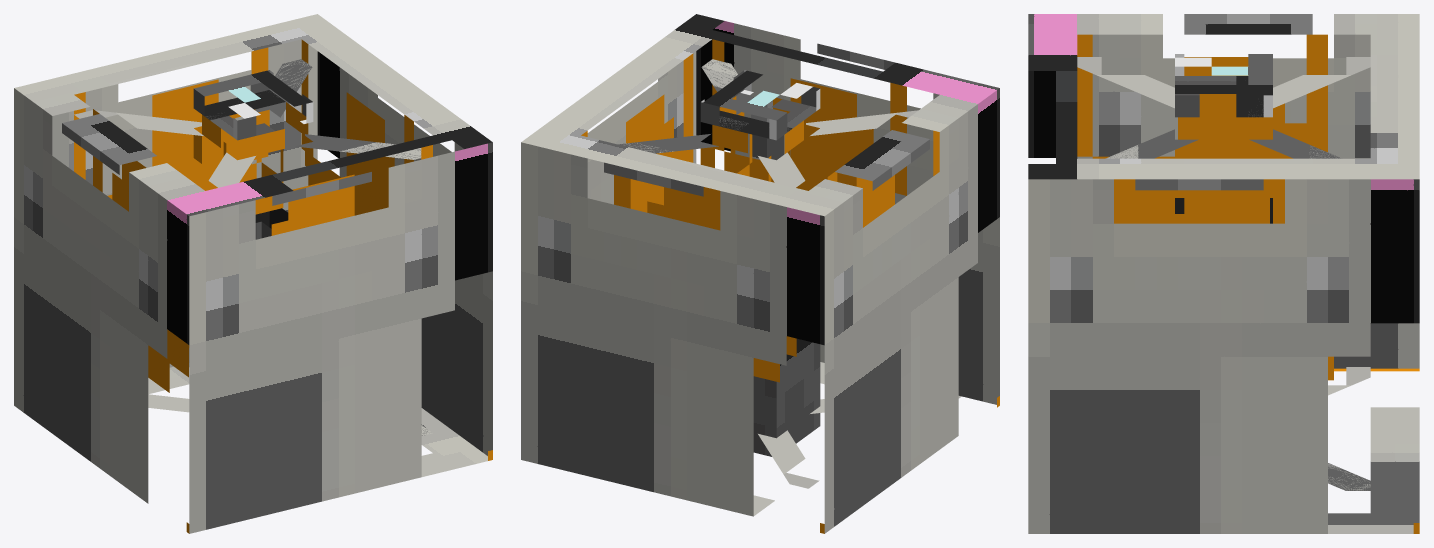
The model's file is piston_inserter_item.obj.
3 renders of one model, left to right at view 1: azimuth 30°, elevation 25°; view 2: azimuth 150°, elevation 25°; view 3: azimuth 270°, elevation 25°, orthographic. The views are drawn at different scales.
Visible parts, largest first — view 1: Frame, Piston; view 2: Frame, Piston; view 3: Frame, Piston.
Part boxes in pixels (left/top/right/bottom): Frame: left=14, top=14, right=492, bottom=533; Piston: left=193, top=70, right=313, bottom=239; Frame: left=521, top=14, right=999, bottom=533; Piston: left=700, top=70, right=820, bottom=182; Frame: left=1028, top=14, right=1419, bottom=533; Piston: left=1175, top=54, right=1272, bottom=158.
Bounding box in the file's own units: 1 × 1.06 × 1.
